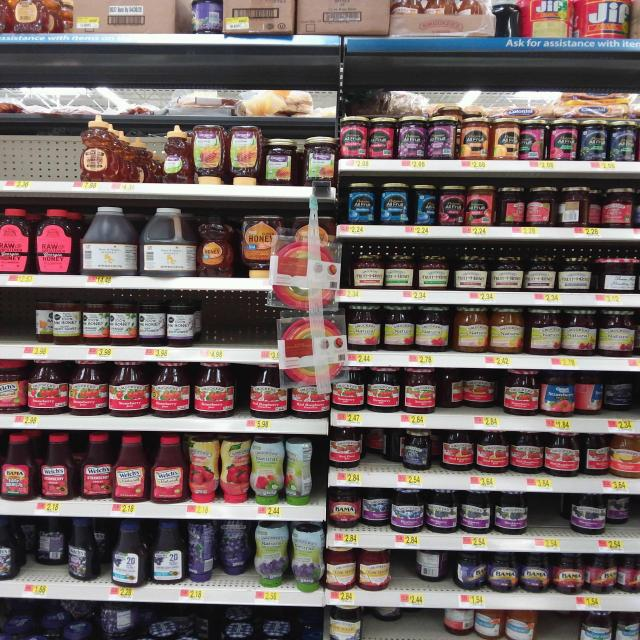empty: (1, 130, 79, 178), (205, 303, 272, 345), (530, 495, 568, 535), (1, 301, 32, 344)
